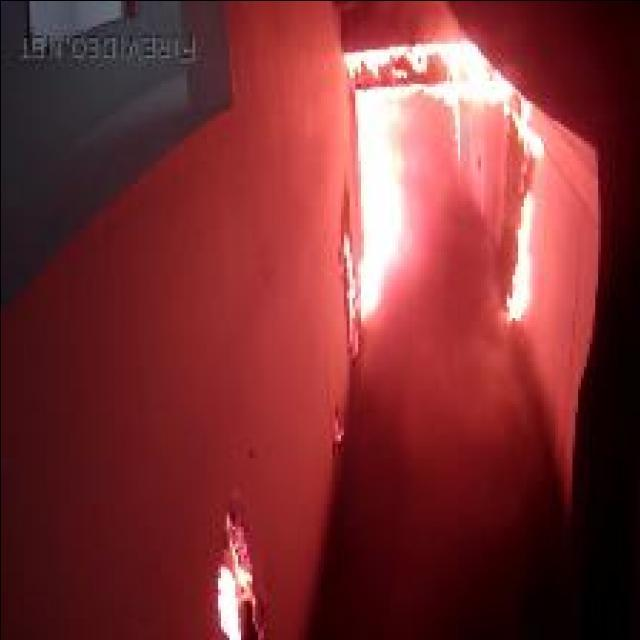Fire: (340, 37, 543, 320)
